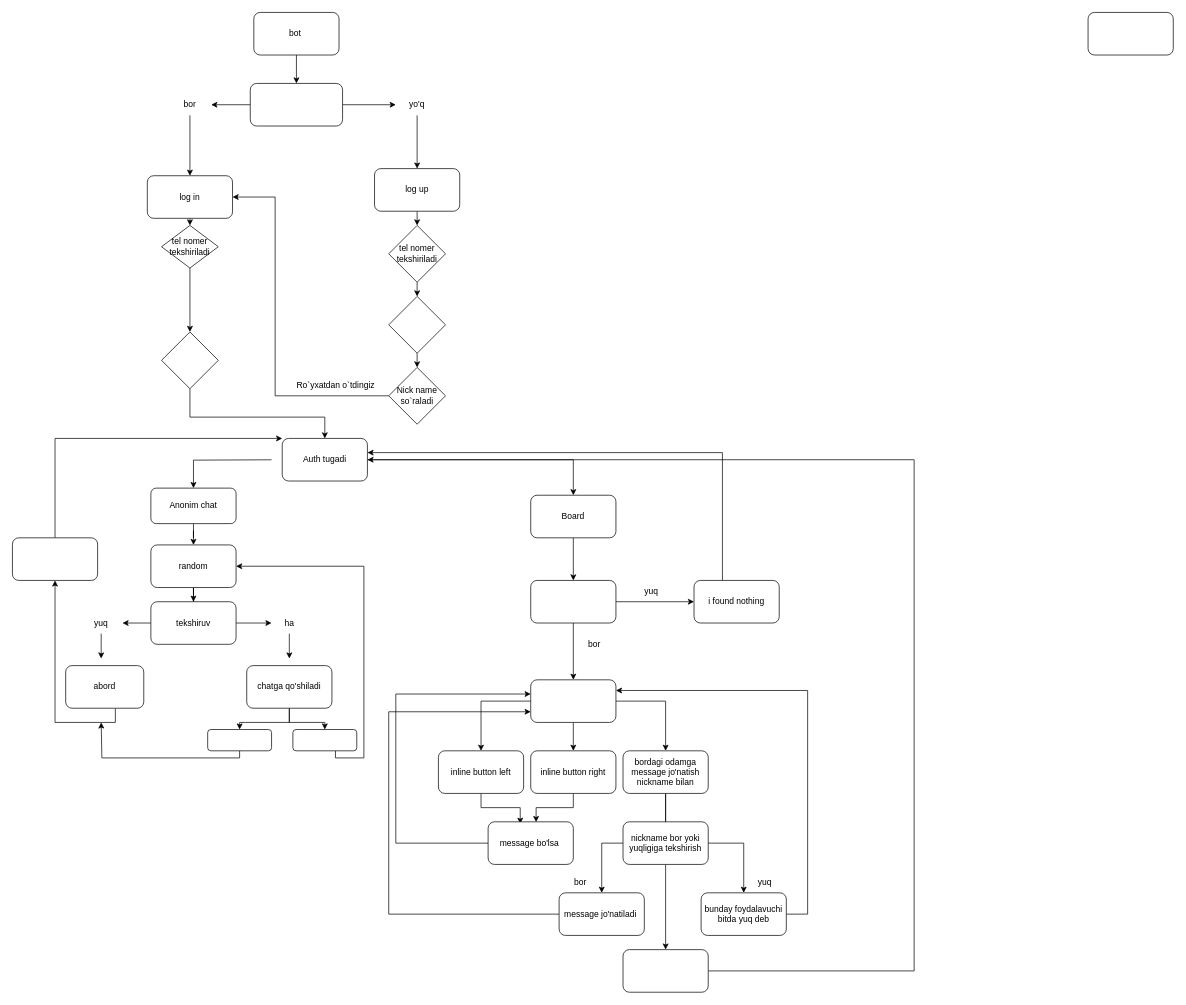
Image size: 1186x1005. Some labels were removed from this diagram. Here are the shapes that lost their labels. From the top down, the centre of each, then its label:
At pixel 1130 33: "sql".
At pixel 296 104: "/start telegram Client Id bor oki yuqligiga tekshirish bo'ladi".
At pixel 417 324: "yangi password tekshiriladi".
At pixel 189 360: "password tekshiriladi".
At pixel 55 558: "limitni tekshirish".
At pixel 573 601: "Message bor yuqligi".
At pixel 573 700: "message chunk va inline button bilan jo'natiladi".
At pixel 239 740: "Stop".
At pixel 324 740: "Next".
At pixel 665 970: "board finish".
